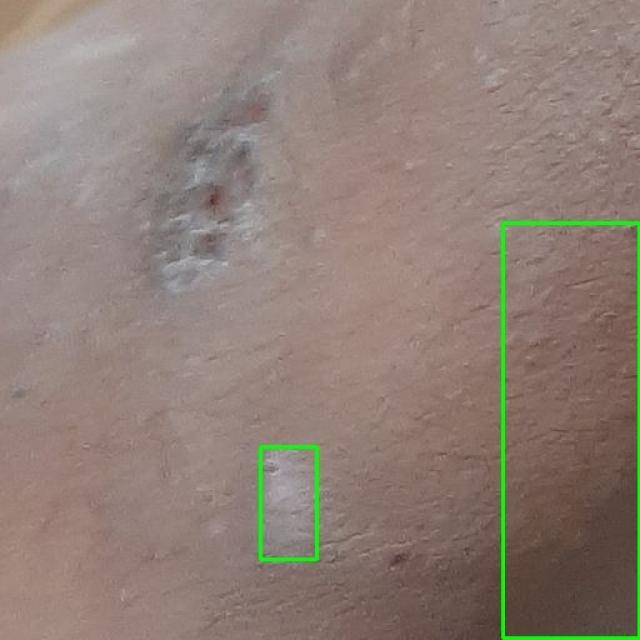Atopic Dermatitis: (502, 224, 639, 639), (260, 446, 316, 559)
